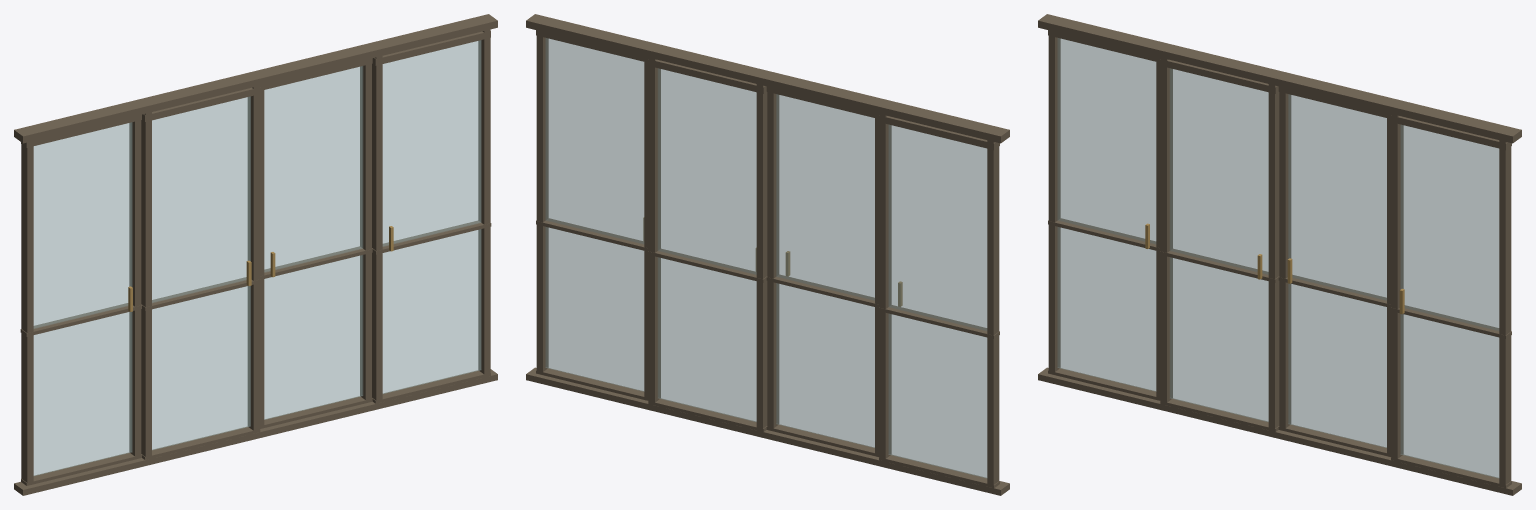
The model's file is slidingDoor.glb.
3 renders of one model, left to right at view 1: azimuth 30°, elevation 25°; view 2: azimuth 150°, elevation 25°; view 3: azimuth 330°, elevation 25°, orthographic.
Parts seen in each view (by area): view 1: 玻璃 (×4), 竖框 (×8), 上滑轨, 横框 (×8), 中腰框 (×4), 下滑轨; view 2: 玻璃 (×4), 竖框 (×8), 上滑轨, 横框 (×8), 中腰框 (×4), 下滑轨; view 3: 玻璃 (×4), 竖框 (×8), 上滑轨, 横框 (×8), 中腰框 (×4), 下滑轨.
Boxes of the visible parts, x1=… form: 玻璃 (×4): x1=33, y1=40, x2=481, y2=475; 竖框 (×8): x1=21, y1=29, x2=490, y2=485; 上滑轨: x1=14, y1=14, x2=497, y2=143; 横框 (×8): x1=21, y1=31, x2=490, y2=485; 中腰框 (×4): x1=20, y1=220, x2=491, y2=336; 下滑轨: x1=14, y1=369, x2=497, y2=495; 玻璃 (×4): x1=545, y1=38, x2=987, y2=478; 竖框 (×8): x1=536, y1=30, x2=999, y2=487; 上滑轨: x1=526, y1=14, x2=1009, y2=143; 横框 (×8): x1=536, y1=30, x2=999, y2=488; 中腰框 (×4): x1=536, y1=218, x2=999, y2=338; 下滑轨: x1=526, y1=367, x2=1009, y2=495; 玻璃 (×4): x1=1057, y1=38, x2=1499, y2=478; 竖框 (×8): x1=1048, y1=30, x2=1511, y2=484; 上滑轨: x1=1038, y1=14, x2=1521, y2=143; 横框 (×8): x1=1048, y1=30, x2=1511, y2=488; 中腰框 (×4): x1=1048, y1=218, x2=1511, y2=338; 下滑轨: x1=1038, y1=367, x2=1521, y2=495.
Size of the model in its own units: 3.17 by 2.29 by 0.1415.
